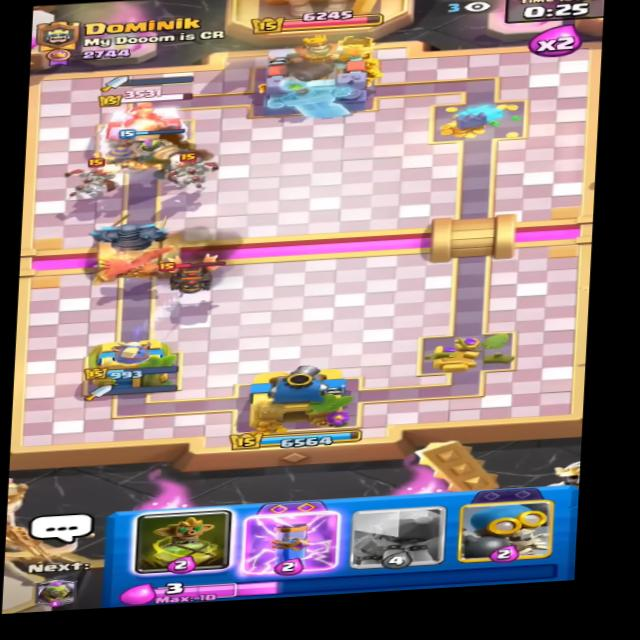lava-hound: (149, 248, 231, 297)
skeleton-dragon: (153, 145, 218, 194), (62, 161, 128, 202)
